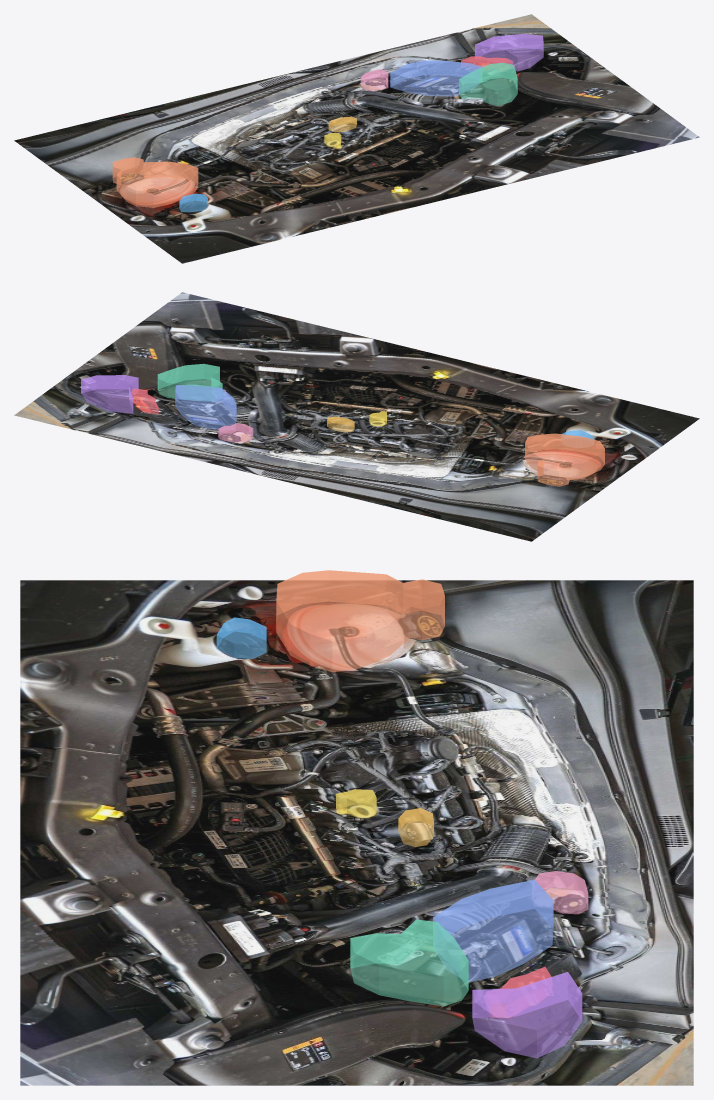
The model's file is Tracker-2023-Premier-1.2T-engine-bay-inspection.glb.
The picture shows the model from 3 angles, top to bottom: view 1: azimuth 30°, elevation 25°; view 2: azimuth 150°, elevation 25°; view 3: azimuth 270°, elevation 25°; orthographic projection. The views are drawn at different scales.
Visible parts, largest first — view 1: Source photograph, Coolant reservoir, 12 V battery, Air filter housing, Fuse box, Brake fluid reservoir, Washer filler; view 2: Source photograph, Coolant reservoir, 12 V battery, Air filter housing, Fuse box, Brake fluid reservoir, Positive battery terminal; view 3: Source photograph, Coolant reservoir, 12 V battery, Air filter housing, Fuse box, Washer filler, Brake fluid reservoir, Oil filler cap, Oil dipstick.
Part boxes in pixels (left/top/right/bottom): Source photograph: left=14, top=14, right=699, bottom=263; Coolant reservoir: left=112, top=157, right=198, bottom=207; 12 V battery: left=390, top=60, right=482, bottom=96; Air filter housing: left=459, top=62, right=517, bottom=106; Fuse box: left=475, top=33, right=543, bottom=71; Brake fluid reservoir: left=360, top=69, right=388, bottom=91; Washer filler: left=179, top=193, right=207, bottom=212; Source photograph: left=14, top=292, right=699, bottom=541; Coolant reservoir: left=525, top=433, right=604, bottom=486; 12 V battery: left=175, top=385, right=236, bottom=429; Air filter housing: left=157, top=363, right=222, bottom=401; Fuse box: left=81, top=375, right=138, bottom=413; Brake fluid reservoir: left=218, top=423, right=253, bottom=442; Positive battery terminal: left=131, top=388, right=158, bottom=414; Source photograph: left=20, top=580, right=693, bottom=1085; Coolant reservoir: left=276, top=570, right=444, bottom=672; 12 V battery: left=433, top=879, right=553, bottom=982; Air filter housing: left=350, top=919, right=468, bottom=1006; Fuse box: left=472, top=972, right=582, bottom=1058; Washer filler: left=216, top=617, right=266, bottom=659; Brake fluid reservoir: left=535, top=871, right=588, bottom=914; Oil filler cap: left=398, top=808, right=433, bottom=846; Oil dipstick: left=336, top=789, right=376, bottom=818.
Size of the model in its own units: 1 by 0.029 by 0.563.
Materials: 10 (1 with a texture image).
